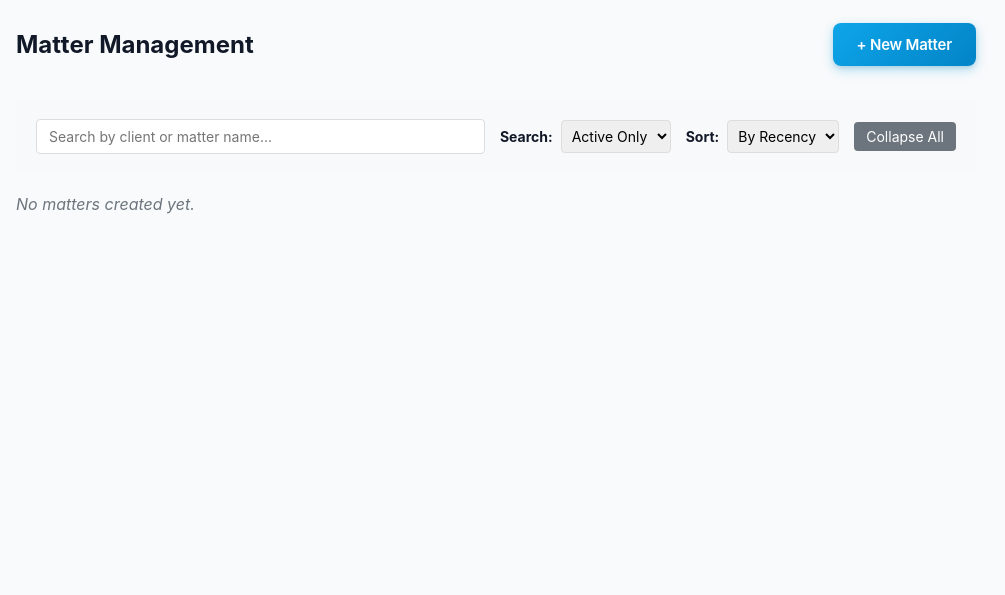
it: Client Integration Tests › Matter-Client Relationship Constraints › MatterManagement should show client dropdown instead of text input
What coordinates should you click on to do the following:
click the button "+ New Matter"
I would click on:
 (904, 44)
Its box is [832,23,976,66].
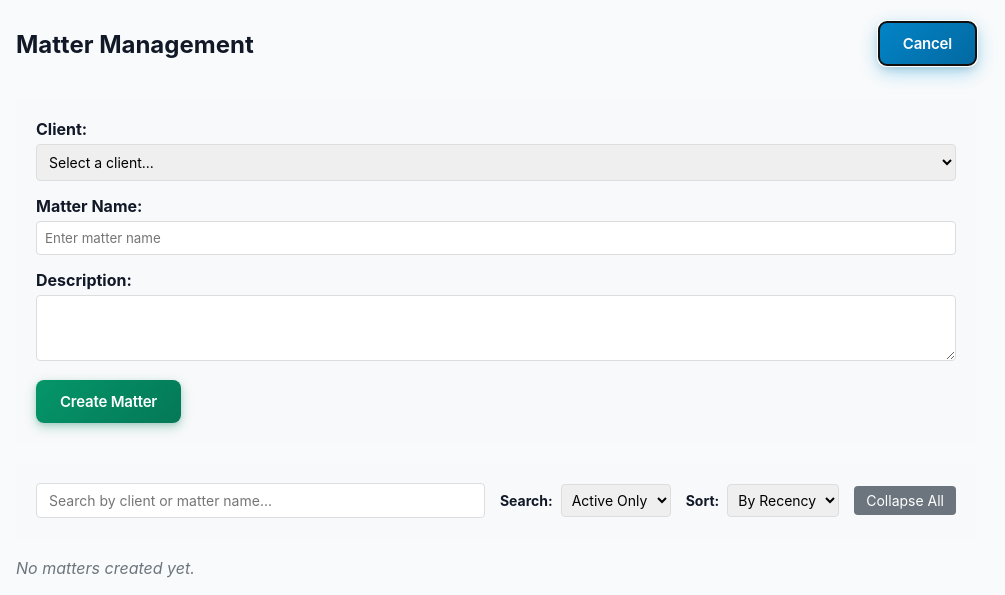
Now the text "Client:" is shown, box [36,119,87,139]
Now the dropdown named "client" is shown, box [36,144,956,181]
